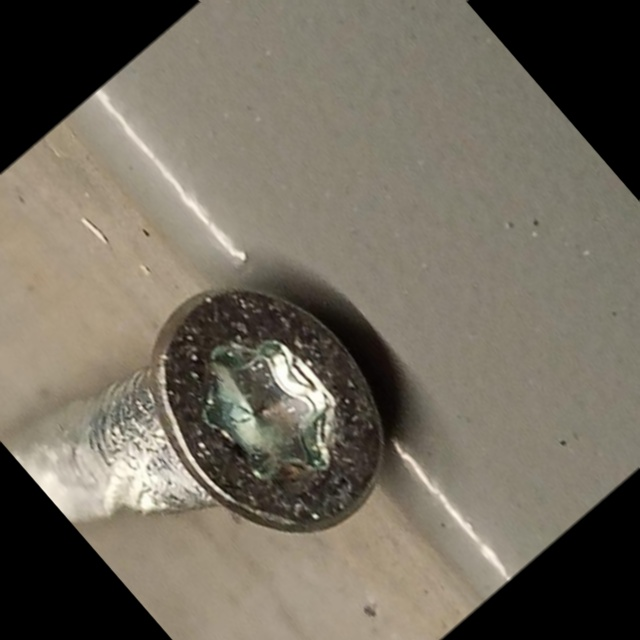torx: (103, 235, 436, 576)
